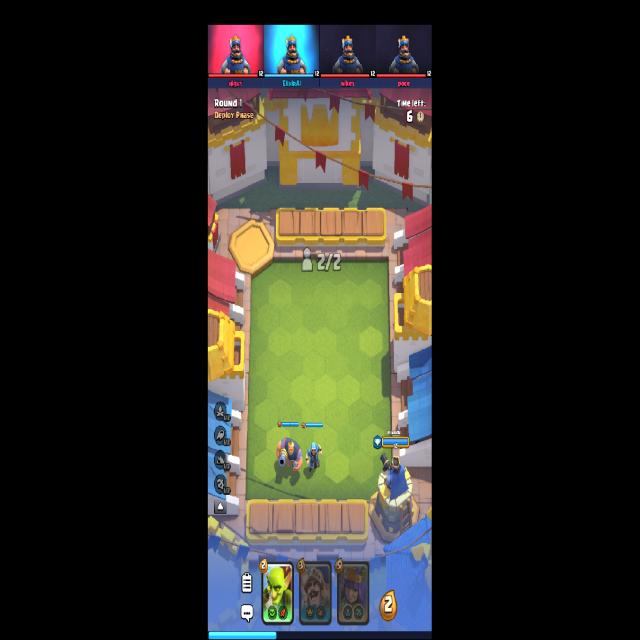card_archer_queen: (336, 560, 370, 627)
card_goblin: (261, 560, 294, 624)
card_prince: (300, 561, 332, 625)
royal_giant: (276, 437, 302, 472)
wizard: (305, 442, 323, 473)
